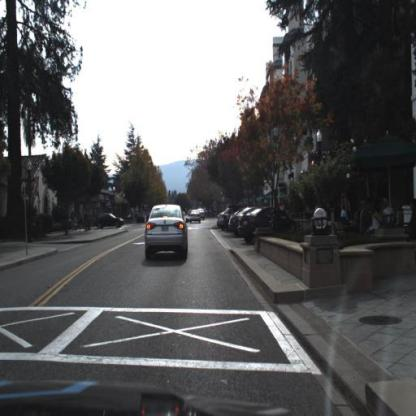car: (142, 202, 192, 270), (239, 204, 295, 247), (237, 205, 297, 245), (96, 211, 129, 232), (187, 205, 205, 229), (190, 209, 202, 226)
pedestrian: (70, 206, 77, 232), (341, 205, 349, 224)
